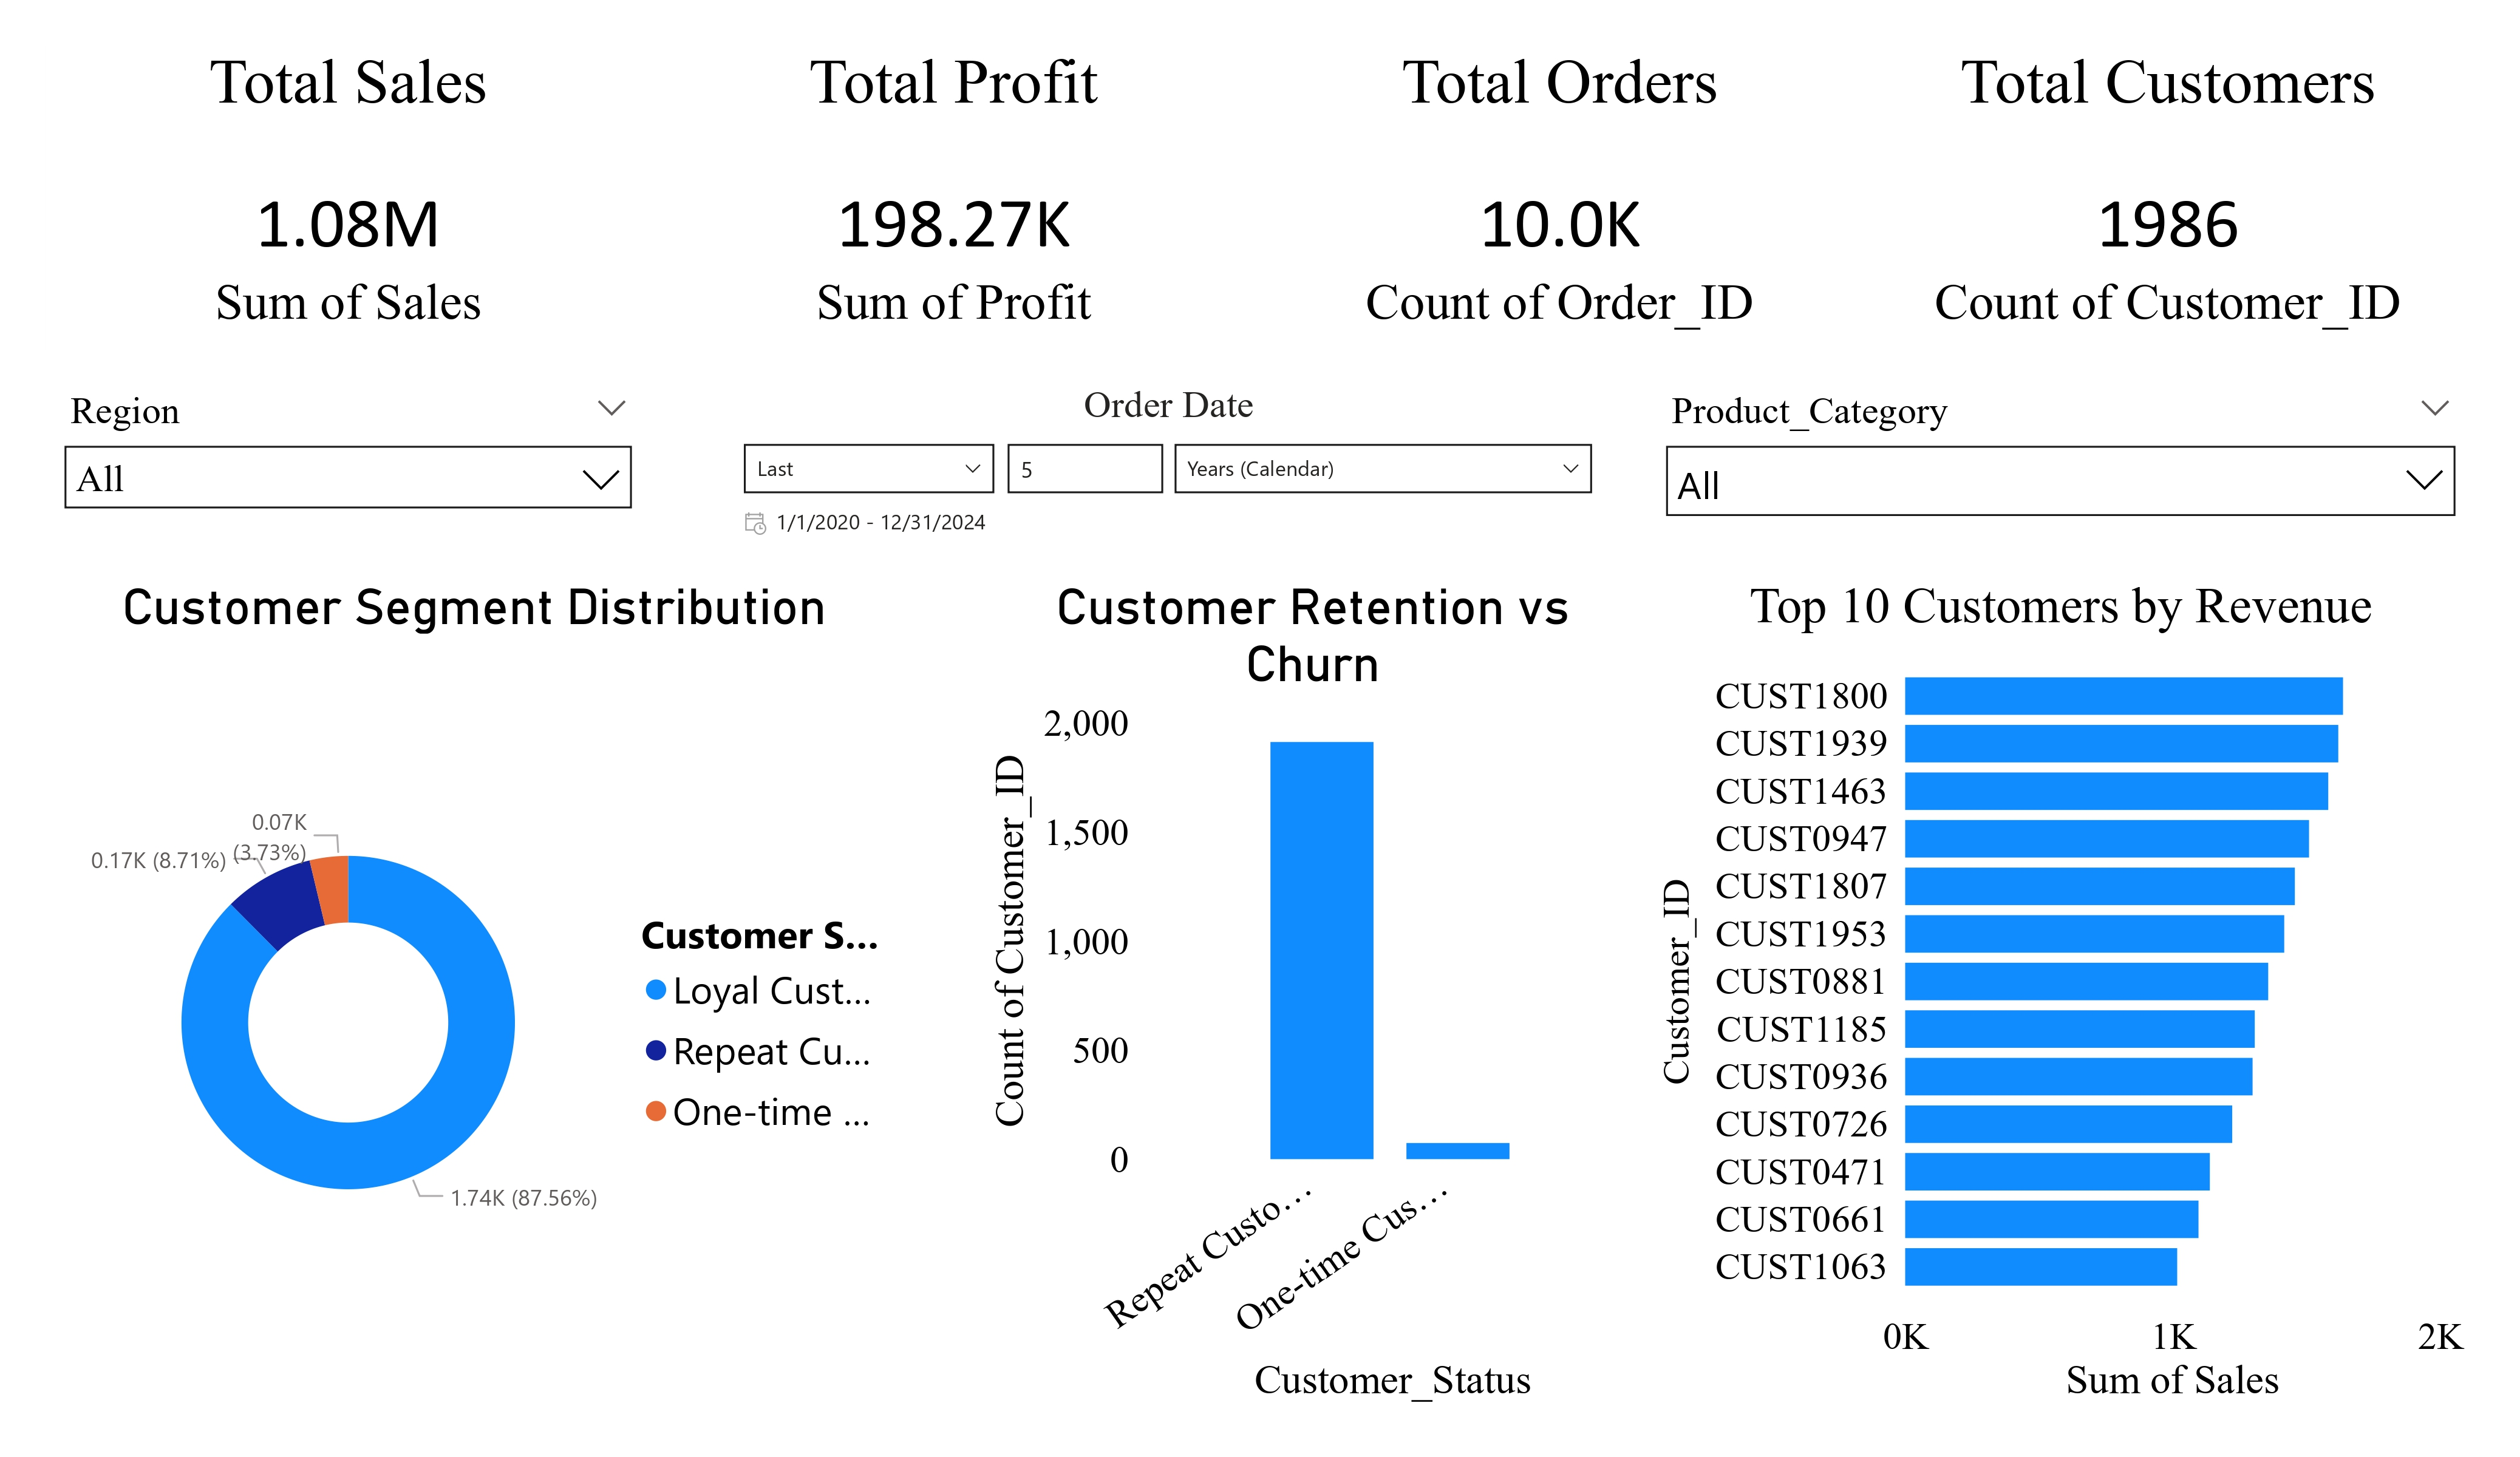

This screenshot's page, from the dashboard's own definition file:
{"tool":"powerbi","page":{"name":"Customer Intelligence","canvas":[1280,720],"ordinal":1},"visuals":[{"type":"card","title":"Total Sales","fields":{"Values":["Sum(cleaned_retail_sales.Sales)"]},"box":[0,0,319.4,175.7],"z":0},{"type":"card","title":"Total Profit","fields":{"Values":["Sum(cleaned_retail_sales.Profit)"]},"box":[318.7,0,319.4,175.7],"z":1000},{"type":"card","title":"Total Orders","fields":{"Values":["CountNonNull(cleaned_retail_sales.Order_ID)"]},"box":[637.5,0,321.3,175.7],"z":2000},{"type":"card","title":"Total Customers","fields":{"Values":["Count(cleaned_retail_sales.Customer_ID)"]},"box":[958.1,0,321.3,175.7],"z":3000},{"type":"slicer","title":"Order Date ","fields":{"Values":["cleaned_retail_sales.Order_Date"]},"box":[340,175.7,504.3,150],"z":4000},{"type":"slicer","fields":{"Values":["cleaned_retail_sales.Region"]},"box":[0,175.7,318.6,88.6],"z":5000},{"type":"slicer","fields":{"Values":["cleaned_retail_sales.Product_Category"]},"box":[844.3,175.7,435.7,88.6],"z":6000},{"type":"donutChart","title":"Customer Segment Distribution","fields":{"Y":["Count(cleaned_retail_sales.Customer_ID)"],"Category":["cleaned_retail_sales.Customer_Segment"]},"box":[0,280,452,440],"z":7000},{"type":"clusteredColumnChart","title":"Customer Retention vs Churn","fields":{"Category":["cleaned_retail_sales.Customer_Status"],"Y":["Count(cleaned_retail_sales.Customer_ID)"]},"box":[492,280,352,440],"z":8000},{"type":"clusteredBarChart","title":"Top 10 Customers by Revenue","fields":{"Category":["cleaned_retail_sales.Customer_ID"],"Y":["Sum(cleaned_retail_sales.Sales)"]},"box":[844,280,436,440],"z":9000}]}

Visuals, with their boxes on the page's 1280x720 design canvas (x1, y1, x2, y2). These are canvas units, not pixel positions in the 2520x1457 screenshot, which may show the page scaled, cropped or inside an application window:
"Total Sales" card: [0,0,319,176]
"Total Profit" card: [319,0,638,176]
"Total Orders" card: [638,0,959,176]
"Total Customers" card: [958,0,1279,176]
"Order Date " slicer: [340,176,844,326]
slicer - cleaned_retail_sales.Region: [0,176,319,264]
slicer - cleaned_retail_sales.Product_Category: [844,176,1280,264]
"Customer Segment Distribution" donutChart: [0,280,452,720]
"Customer Retention vs Churn" clusteredColumnChart: [492,280,844,720]
"Top 10 Customers by Revenue" clusteredBarChart: [844,280,1280,720]
